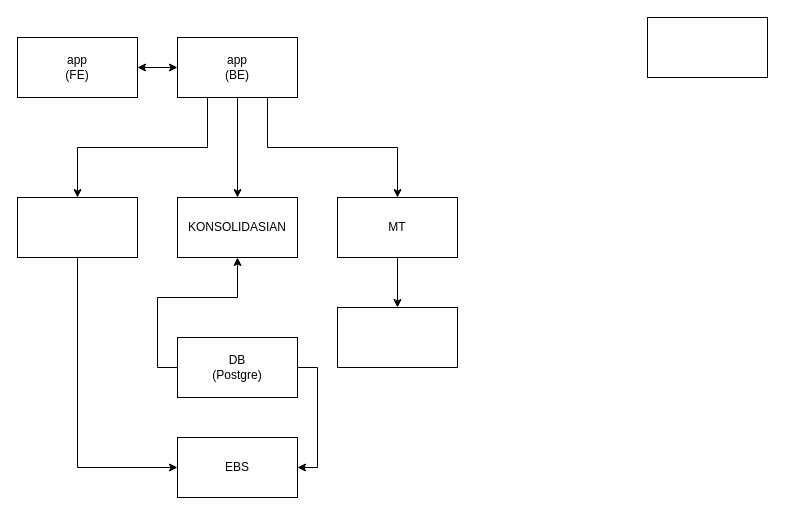
The diagram is 785 pixels wide and 515 high, and some of its shapes have lost their labels. The shapes that lost their labels are listed below. From the top down, each one's centre as x and y in pixels, then its label:
At point 707,47: "bank".
At point 77,227: "INVOICE".
At point 397,337: "SFTP".
